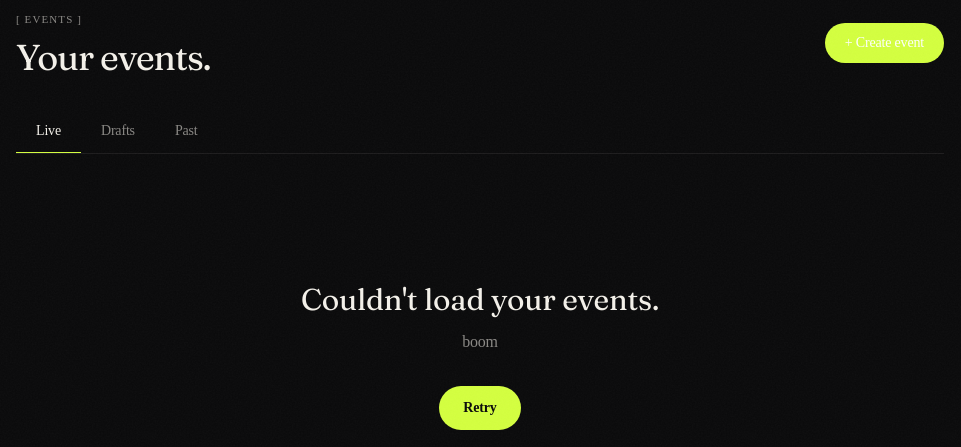
/host/events page › a failed load is an error with Retry, not "No live events"
Click the button "Retry". click: (480, 408)
box: left=439, top=386, right=521, bottom=430
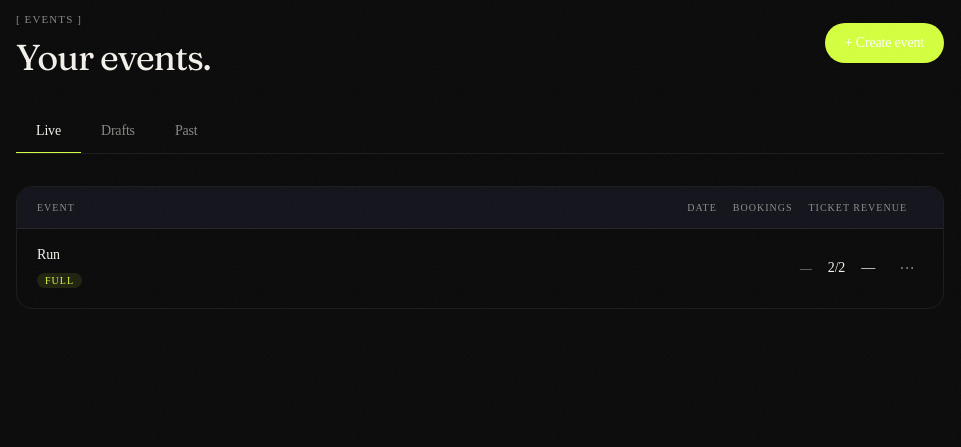
Expected: the text "Run" is shown, left=37, top=247, right=60, bottom=262
